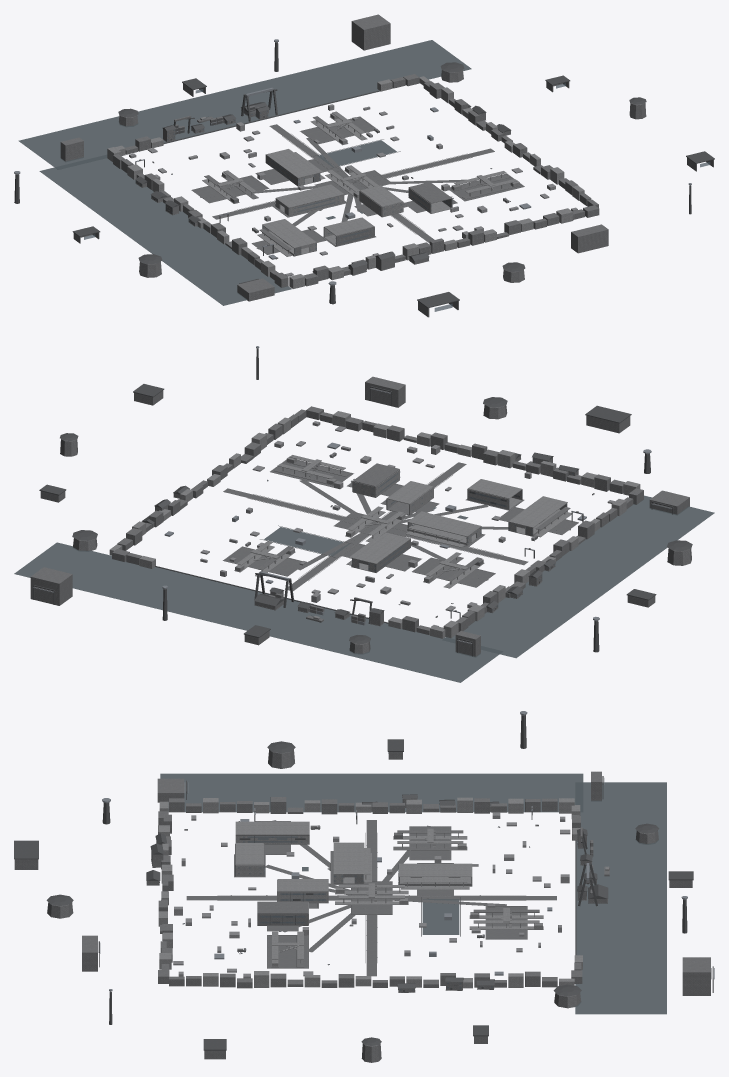
3 views of the same model, one above another, from view 1: azimuth 30°, elevation 25°; view 2: azimuth 150°, elevation 25°; view 3: azimuth 270°, elevation 25° (orthographic). The views are drawn at different scales.
Visible parts, largest first — view 1: HB_z03_LOD1_water, HB_z03_LOD1_wall_alt, HB_z03_LOD1_wall, HB_z03_LOD1_road, HB_z03_LOD1_trim, HB_z03_LOD1_obstacle, HB_z03_LOD1_glass, HB_z03_LOD1_accent; view 2: HB_z03_LOD1_water, HB_z03_LOD1_wall_alt, HB_z03_LOD1_wall, HB_z03_LOD1_road, HB_z03_LOD1_trim, HB_z03_LOD1_obstacle, HB_z03_LOD1_accent; view 3: HB_z03_LOD1_water, HB_z03_LOD1_wall_alt, HB_z03_LOD1_wall, HB_z03_LOD1_road, HB_z03_LOD1_trim, HB_z03_LOD1_obstacle, HB_z03_LOD1_glass, HB_z03_LOD1_accent.
Part boxes in pixels (x1,y1,x2,y2): HB_z03_LOD1_water: [18, 40, 471, 305]; HB_z03_LOD1_wall_alt: [60, 14, 713, 317]; HB_z03_LOD1_wall: [107, 76, 584, 288]; HB_z03_LOD1_road: [191, 117, 524, 254]; HB_z03_LOD1_trim: [14, 42, 714, 308]; HB_z03_LOD1_obstacle: [129, 104, 577, 276]; HB_z03_LOD1_glass: [84, 83, 710, 311]; HB_z03_LOD1_accent: [14, 39, 691, 285]; HB_z03_LOD1_water: [14, 495, 714, 682]; HB_z03_LOD1_wall_alt: [30, 376, 691, 656]; HB_z03_LOD1_wall: [109, 411, 640, 638]; HB_z03_LOD1_road: [223, 460, 578, 590]; HB_z03_LOD1_trim: [33, 348, 692, 656]; HB_z03_LOD1_obstacle: [34, 387, 672, 643]; HB_z03_LOD1_accent: [33, 346, 671, 644]; HB_z03_LOD1_water: [160, 773, 666, 1014]; HB_z03_LOD1_wall_alt: [14, 749, 710, 1062]; HB_z03_LOD1_wall: [158, 797, 608, 988]; HB_z03_LOD1_road: [186, 820, 556, 976]; HB_z03_LOD1_trim: [14, 715, 713, 1050]; HB_z03_LOD1_obstacle: [173, 782, 711, 979]; HB_z03_LOD1_glass: [235, 752, 605, 990]; HB_z03_LOD1_accent: [100, 711, 714, 991].
Bounding box in the file's own units: 590 × 30.67 × 551.
8 materials, 6 textured.
